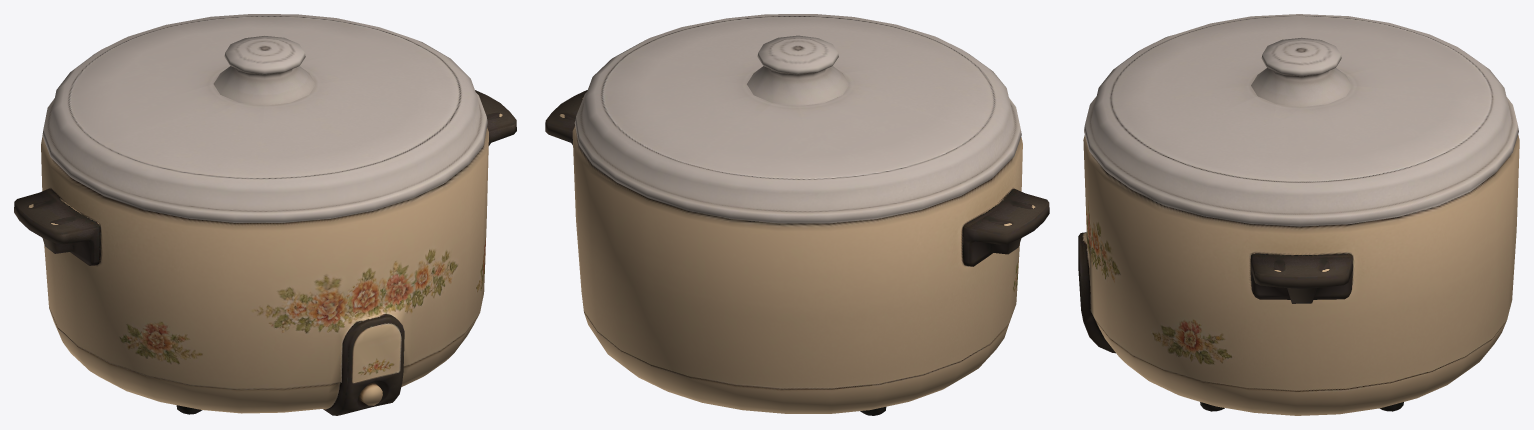
Rendered from stage4_rice_cooker.fbx.
3 renders of one model, left to right at view 1: azimuth 30°, elevation 25°; view 2: azimuth 150°, elevation 25°; view 3: azimuth 270°, elevation 25°, orthographic.
Parts seen in each view (by area): view 1: stage4_rice_cooker; view 2: stage4_rice_cooker; view 3: stage4_rice_cooker.
Part boxes in pixels (box(x1,y1,x2,y2)): stage4_rice_cooker: box(14, 14, 516, 415); stage4_rice_cooker: box(545, 14, 1049, 415); stage4_rice_cooker: box(1078, 14, 1519, 415).
Size of the model in its own units: 98.08 by 59.72 by 79.85.
